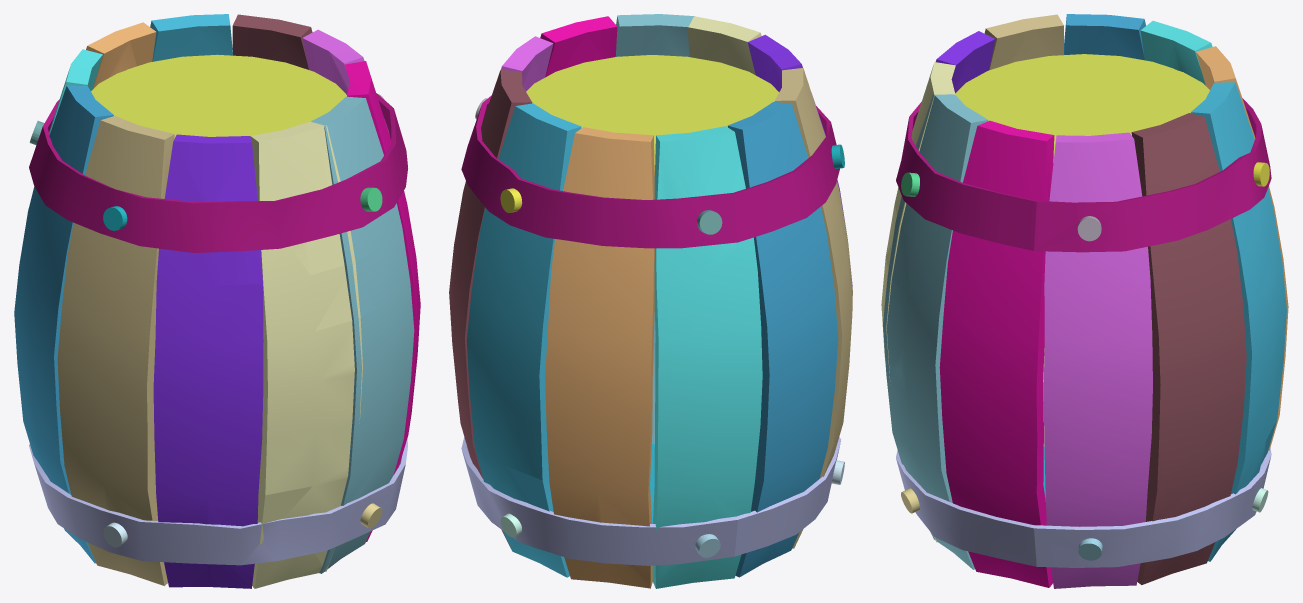
3 views of the same model, side by side, from view 1: azimuth 30°, elevation 25°; view 2: azimuth 150°, elevation 25°; view 3: azimuth 270°, elevation 25° (orthographic).
Visible parts, largest first — view 1: split_parent_8, Object_2.138, split_parent_7, Object_2.072, split_parent_23, Object_2, Object_2.160, split_parent_24, Object_2.050, split_parent_13, split_parent_3, split_parent_12 (+2 smaller); view 2: split_parent_12, Object_2.182, split_parent_13, Object_2.160, split_parent_23, Object_2, split_parent_24, split_parent_3, Object_2.138, Object_2.072, Object_2.050, split_parent_7 (+2 smaller); view 3: split_parent_4, Object_2.050, split_parent_3, split_parent_23, Object_2.072, Object_2, split_parent_24, split_parent_13, Object_2.160, Object_2.138, Object_2.182, split_parent_7 (+2 smaller).
Boxes of the visible parts, x1=… form: split_parent_8: x1=153, y1=134, x2=263, y2=588; Object_2.138: x1=57, y1=116, x2=174, y2=585; split_parent_7: x1=250, y1=121, x2=362, y2=588; Object_2.072: x1=311, y1=96, x2=414, y2=573; split_parent_23: x1=29, y1=93, x2=407, y2=252; Object_2: x1=91, y1=54, x2=346, y2=138; Object_2.160: x1=14, y1=85, x2=113, y2=563; split_parent_24: x1=29, y1=439, x2=407, y2=565; Object_2.050: x1=345, y1=61, x2=420, y2=541; split_parent_13: x1=150, y1=14, x2=232, y2=61; split_parent_3: x1=232, y1=14, x2=312, y2=69; split_parent_12: x1=86, y1=22, x2=156, y2=89; split_parent_12: x1=545, y1=127, x2=654, y2=588; Object_2.182: x1=652, y1=126, x2=762, y2=588; split_parent_13: x1=466, y1=103, x2=581, y2=577; Object_2.160: x1=727, y1=102, x2=838, y2=577; split_parent_23: x1=461, y1=95, x2=839, y2=248; Object_2: x1=526, y1=55, x2=778, y2=175; split_parent_24: x1=461, y1=437, x2=841, y2=565; split_parent_3: x1=449, y1=70, x2=532, y2=549; Object_2.138: x1=774, y1=68, x2=852, y2=548; Object_2.072: x1=615, y1=14, x2=694, y2=443; Object_2.050: x1=540, y1=16, x2=617, y2=77; split_parent_7: x1=687, y1=16, x2=761, y2=74; split_parent_4: x1=1043, y1=132, x2=1152, y2=588; Object_2.050: x1=939, y1=120, x2=1054, y2=587; split_parent_3: x1=1131, y1=113, x2=1246, y2=584; split_parent_23: x1=896, y1=98, x2=1271, y2=252; Object_2.072: x1=883, y1=94, x2=988, y2=569; Object_2: x1=955, y1=54, x2=1209, y2=162; split_parent_24: x1=896, y1=447, x2=1271, y2=567; split_parent_13: x1=1191, y1=82, x2=1286, y2=561; Object_2.160: x1=1064, y1=14, x2=1145, y2=60; Object_2.138: x1=984, y1=14, x2=1063, y2=446; Object_2.182: x1=1140, y1=20, x2=1212, y2=85; split_parent_7: x1=881, y1=62, x2=955, y2=542.
Size of the model in its own units: 0.8187 by 1 by 0.8239.
